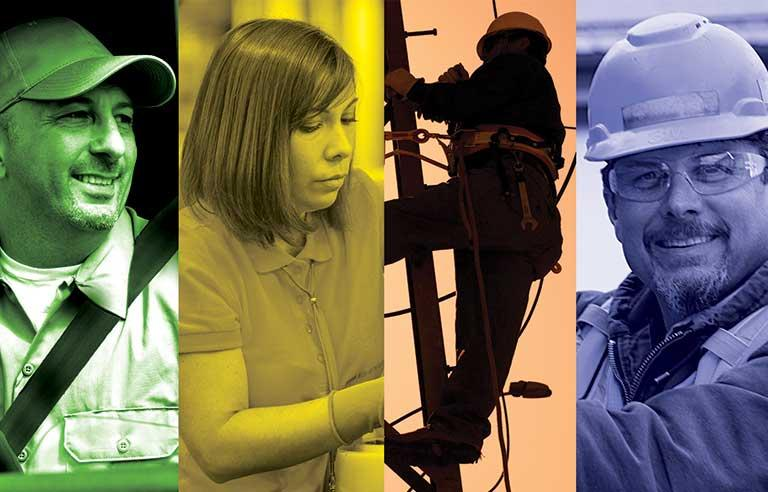helmet: (583, 17, 768, 160), (478, 12, 552, 63)
